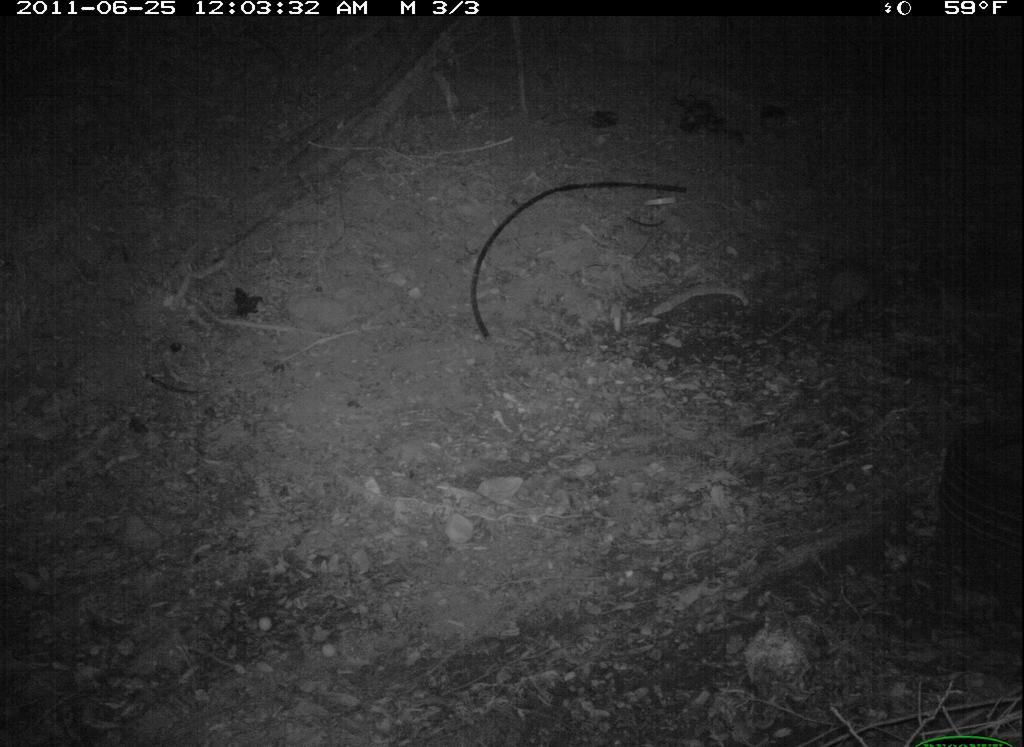opossum: (772, 255, 893, 347)
